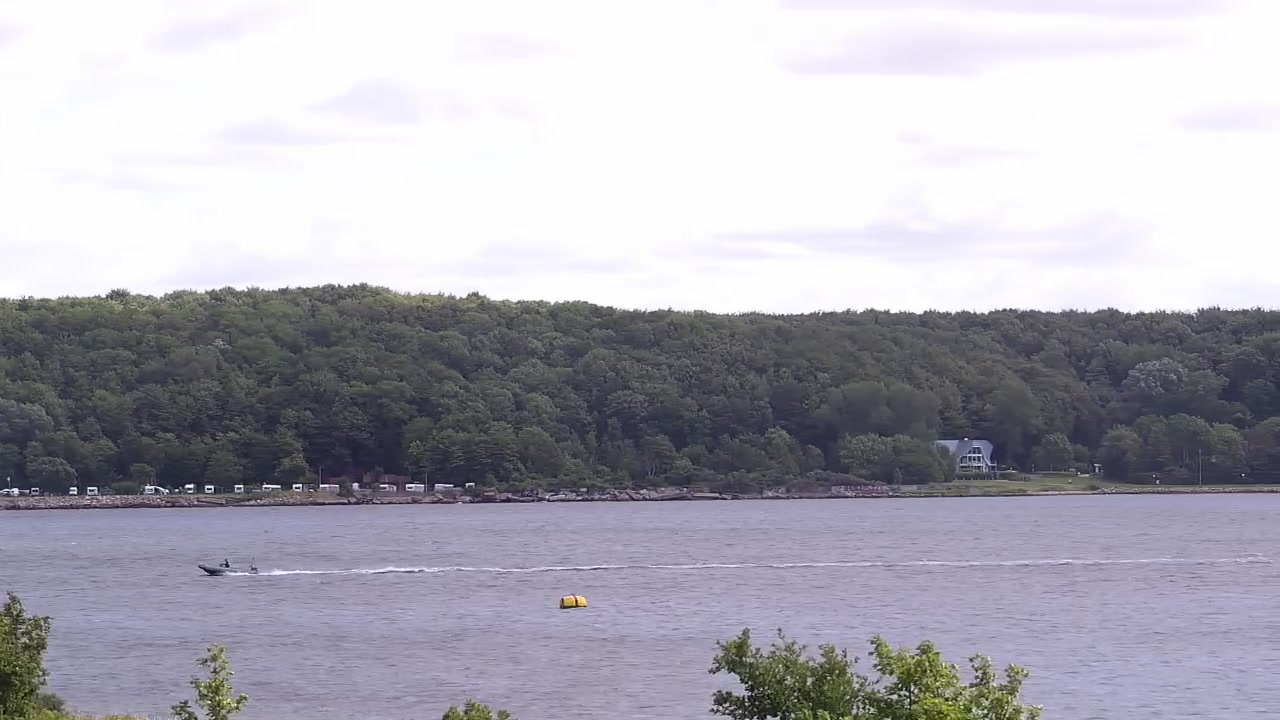human: (222, 557, 230, 568)
land: (319, 482, 341, 493), (403, 483, 426, 491), (183, 483, 197, 495), (261, 484, 282, 492), (433, 482, 454, 490), (1, 487, 19, 496), (379, 484, 397, 493), (153, 486, 169, 495), (203, 484, 215, 495), (144, 484, 155, 495), (86, 486, 98, 496), (291, 483, 303, 493), (68, 486, 79, 496), (234, 483, 244, 493), (30, 487, 41, 496)
sea: (197, 556, 260, 577)
